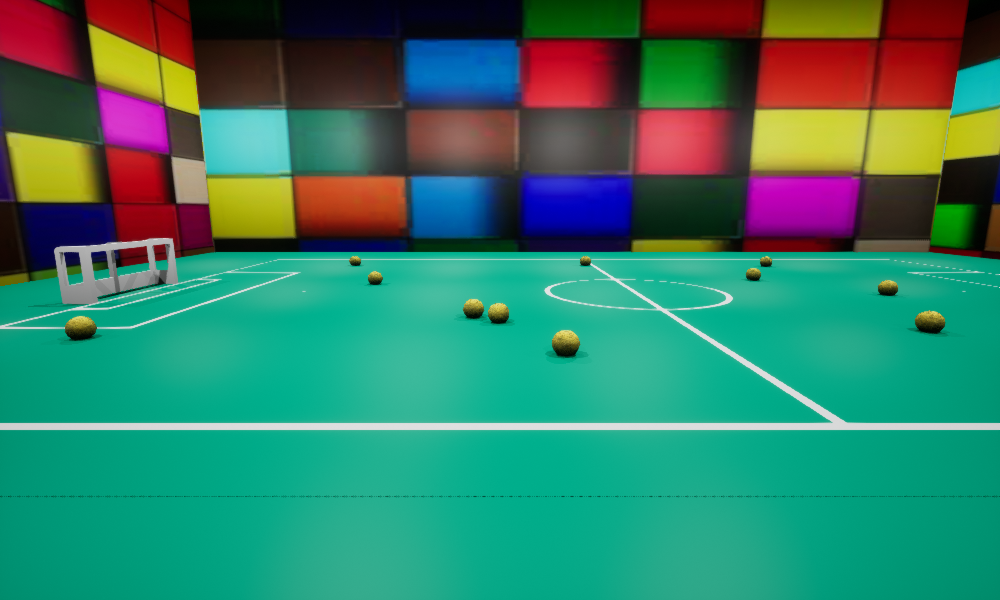b: (65, 316, 96, 339), (552, 330, 579, 355), (915, 310, 945, 332), (488, 303, 508, 322), (463, 299, 483, 317), (878, 280, 897, 295), (368, 271, 382, 284), (746, 268, 760, 280), (760, 256, 771, 266), (349, 256, 360, 265), (580, 256, 590, 265)
g: (54, 238, 177, 303)
